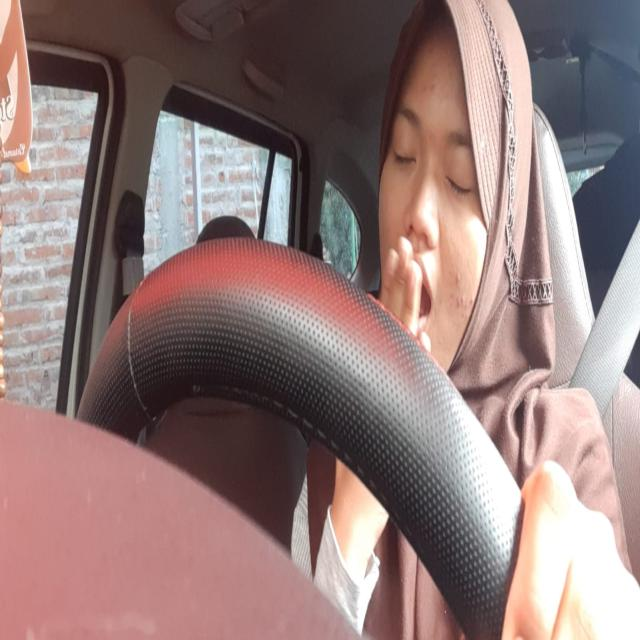no-seatbelt: (392, 105, 479, 203), (392, 238, 433, 330)
